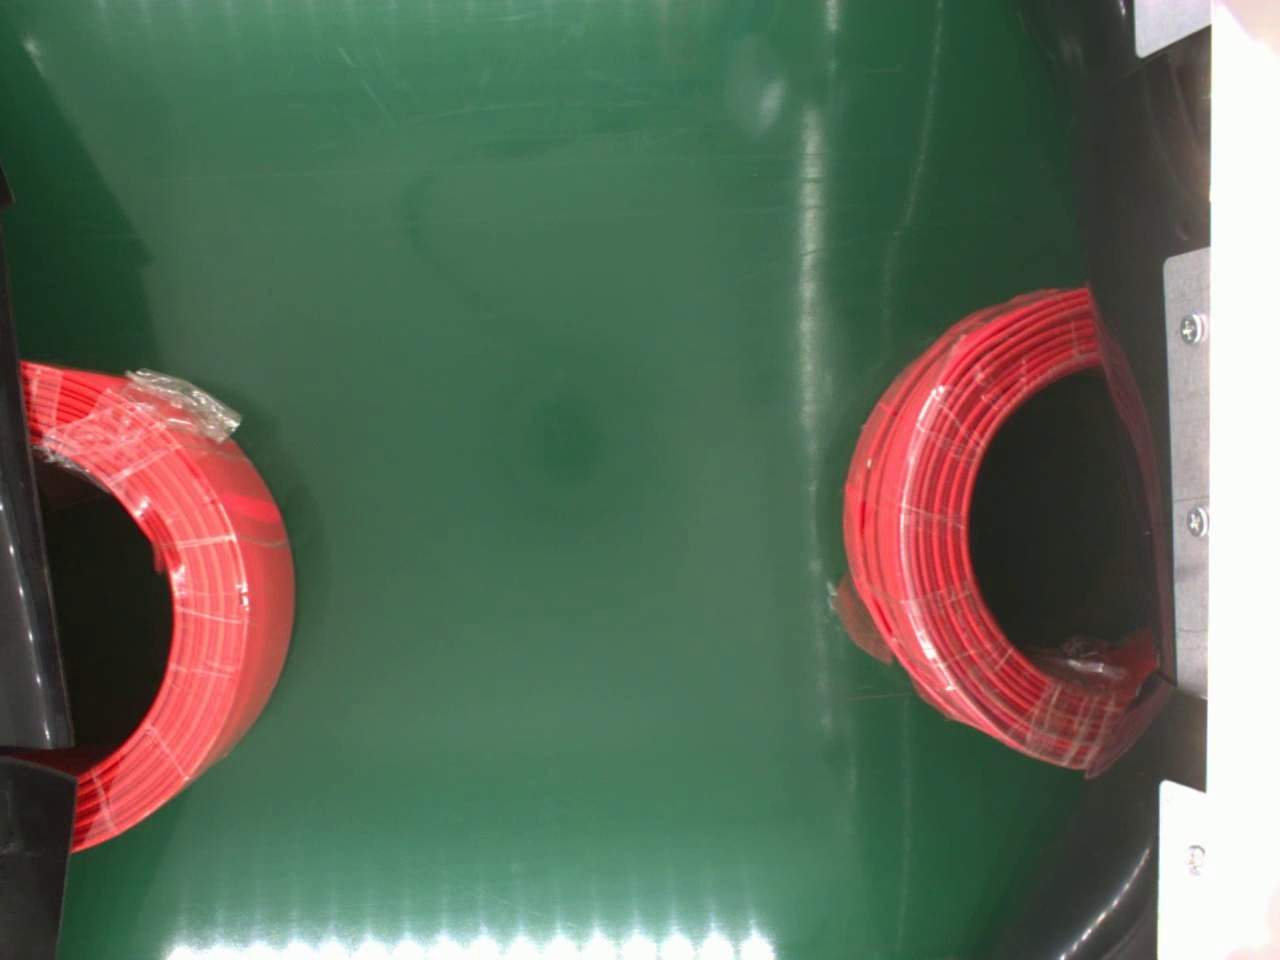red: (837, 281, 1149, 774), (17, 355, 300, 853)
